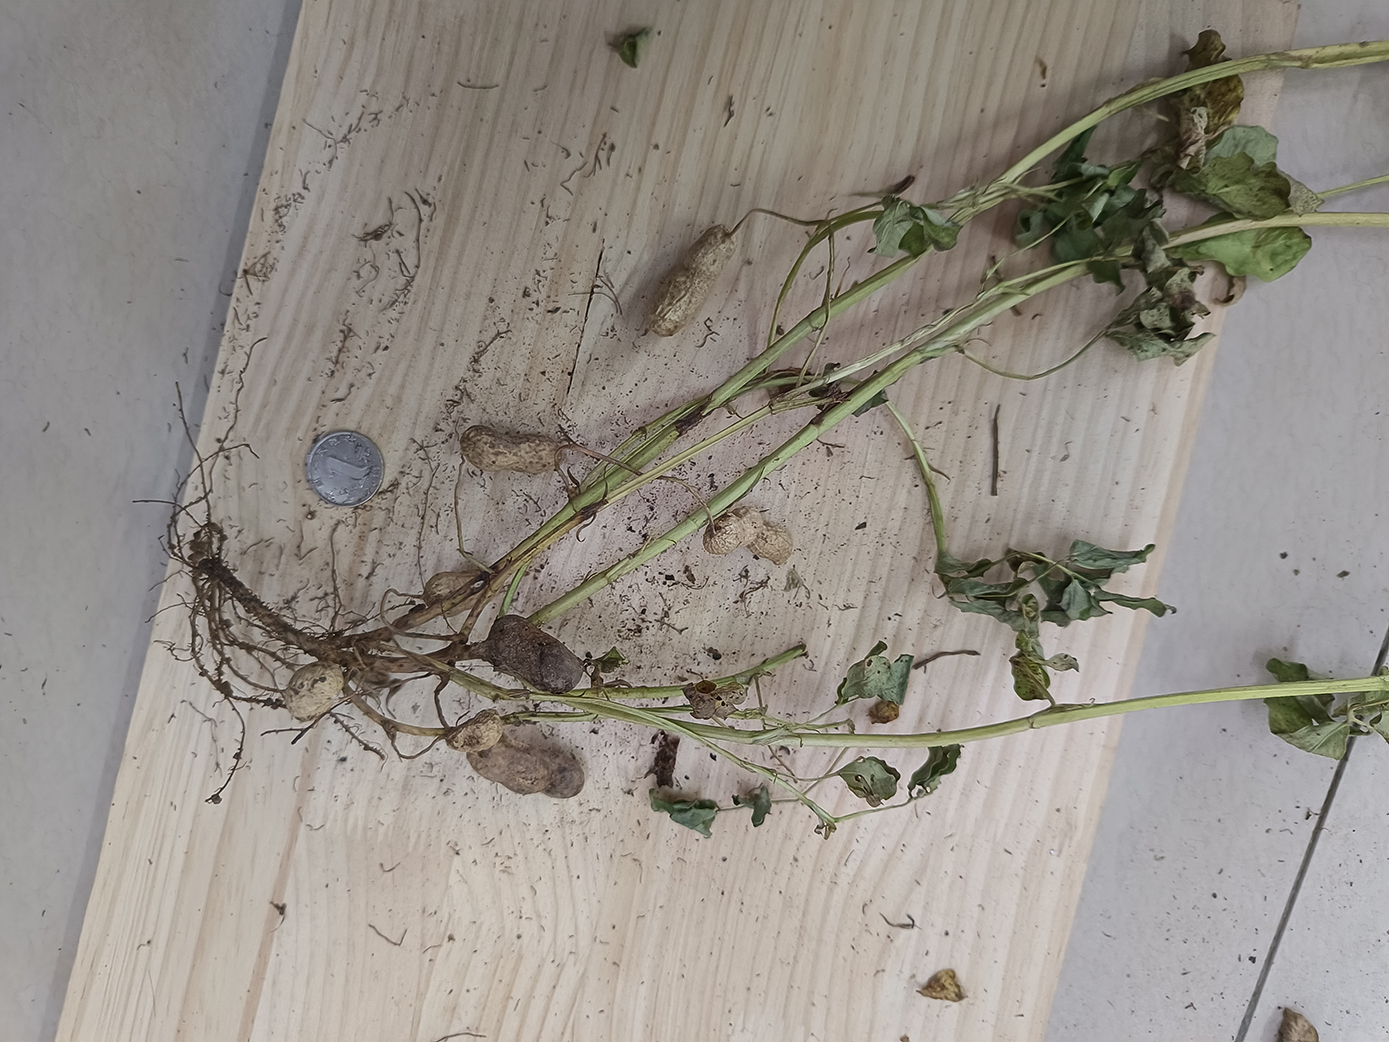h: (648, 224, 737, 338), (703, 505, 796, 565), (461, 425, 562, 476), (286, 659, 343, 721), (425, 570, 487, 614), (447, 709, 501, 753)
l: (486, 614, 583, 693), (464, 740, 584, 797)
